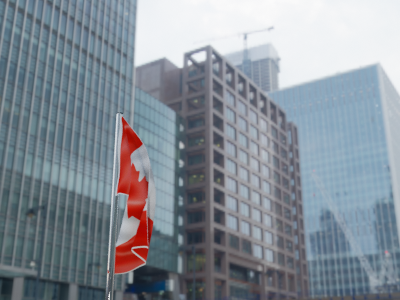Canada flag: (114, 112, 156, 276)
